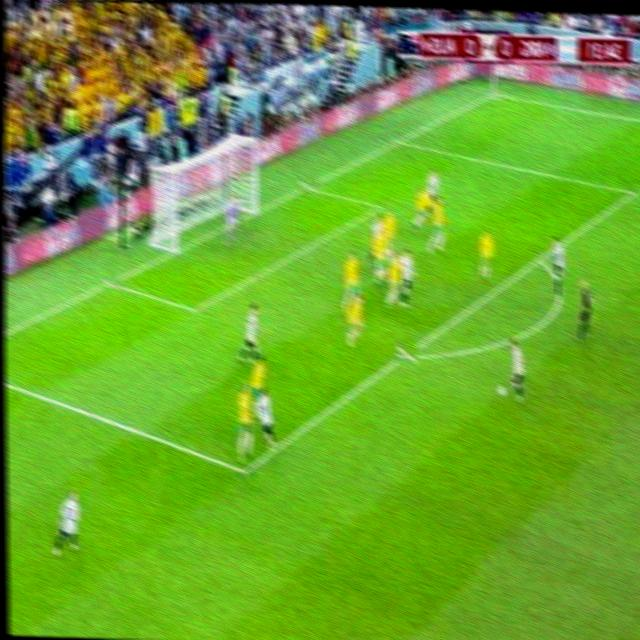bigarea_bottom_inner: (233, 455, 258, 483)
bigarea_top_inner: (622, 178, 640, 202)
bigarea_top_outter: (391, 130, 409, 151)
bottom_arc_area_intersection: (395, 340, 418, 369)
corner: (483, 85, 505, 99)
smallarea_bottom_inner: (183, 293, 208, 323)
smallarea_bottom_outter: (101, 271, 121, 292)
smallarea_top_inner: (371, 193, 391, 218)
smallarea_top_outter: (298, 175, 318, 197)
top_arc_area_intersection: (530, 246, 552, 272)
